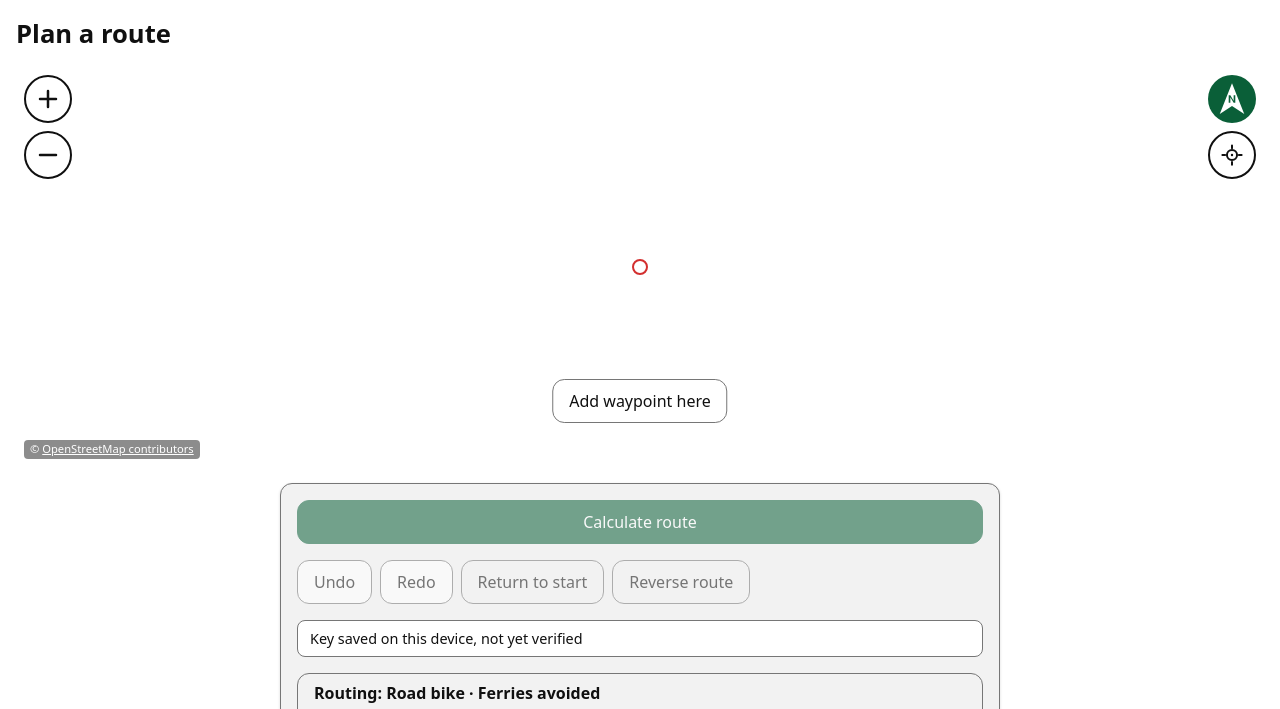
PlanningScreen › shows the key's verification status inline, updated after a successful calculation
expect the text "Key saved on this device, not yet verified" is shown: met, box [297,620,983,657]
Click the button "Add waypoint here" at (640,401), box [552,379,728,423]
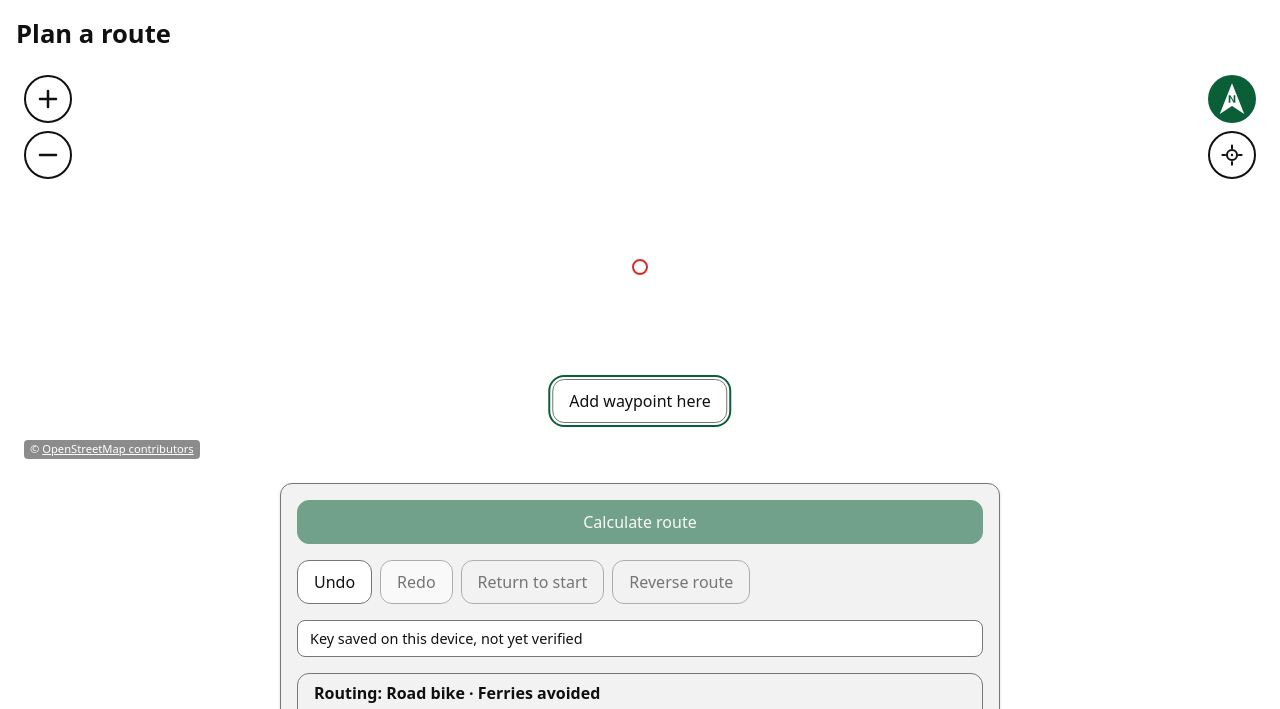
Click the button "Add waypoint here" at (640,401), box [552,379,728,423]
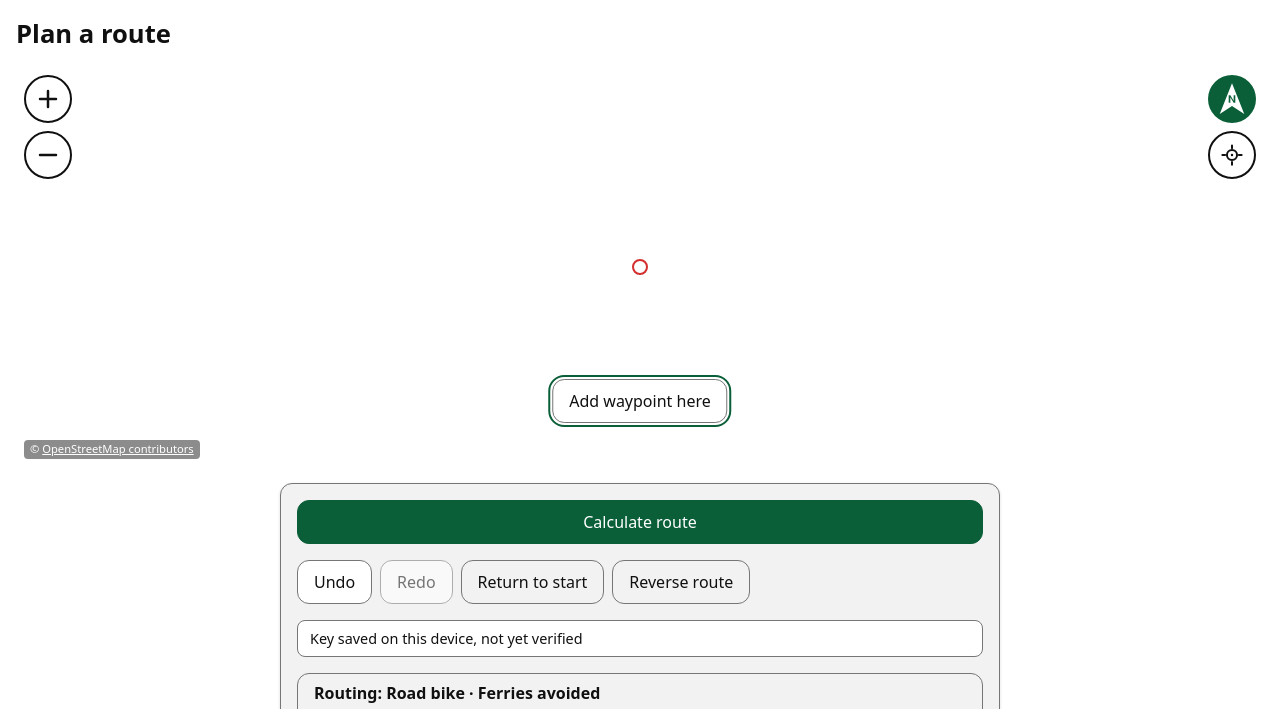
expect the button "Calculate route" is enabled: met
Click the button "Calculate route" at (640,522), box [297,500,983,544]
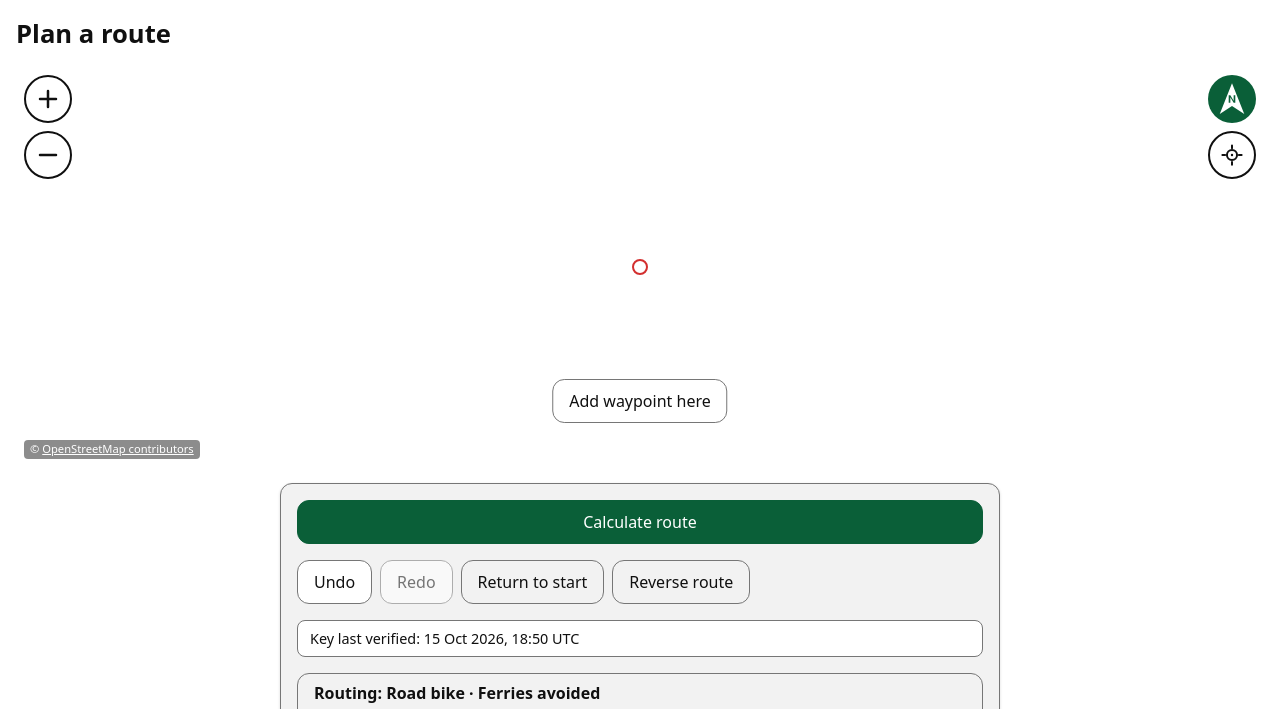
expect the text "Key last verified: 15 Oct 2026, 18:50 UTC" is shown: met, box [297,620,983,657]
